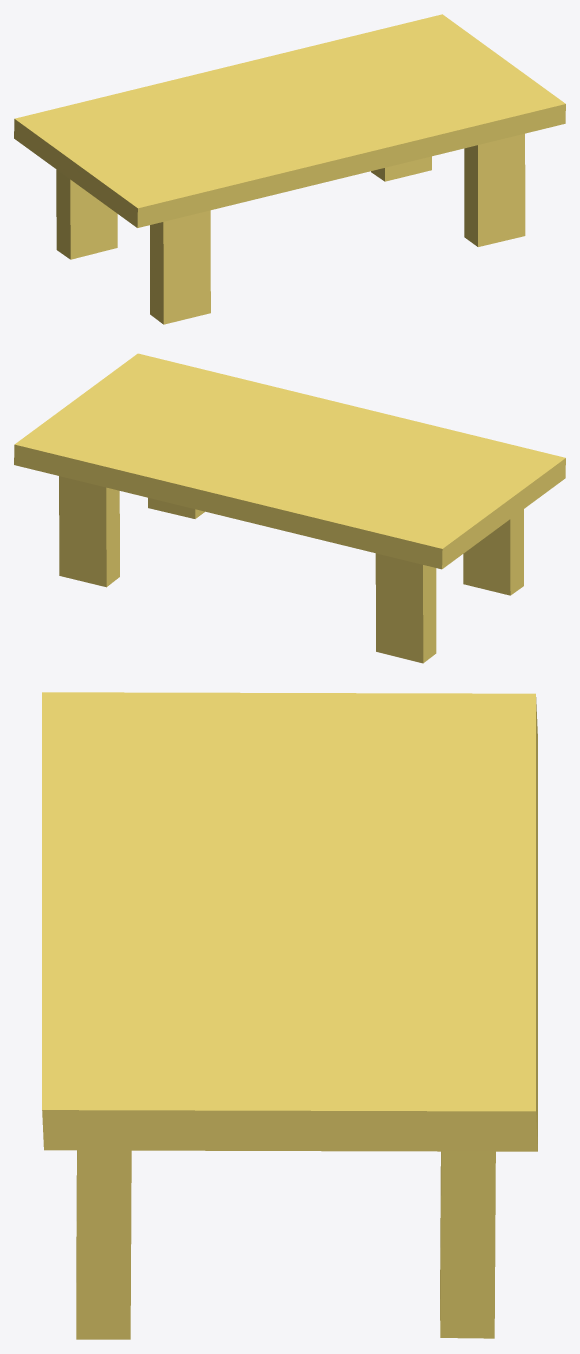
Rendered from Table_16.fbx.
3 renders of one model, top to bottom at view 1: azimuth 30°, elevation 25°; view 2: azimuth 150°, elevation 25°; view 3: azimuth 270°, elevation 25°, orthographic. The views are drawn at different scales.
Parts seen in each view (by area): view 1: Table_16; view 2: Table_16; view 3: Table_16.
Boxes of the visible parts, left/top/right/bottom form: Table_16: left=14, top=14, right=565, bottom=324; Table_16: left=14, top=353, right=565, bottom=663; Table_16: left=42, top=692, right=537, bottom=1339.
Bounding box in the file's own units: 174 × 87.08 × 50.85.
